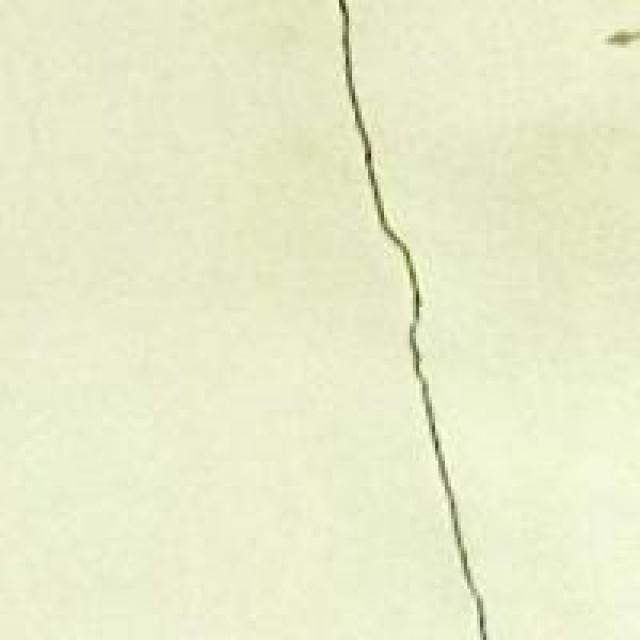crack: (291, 0, 506, 637)
